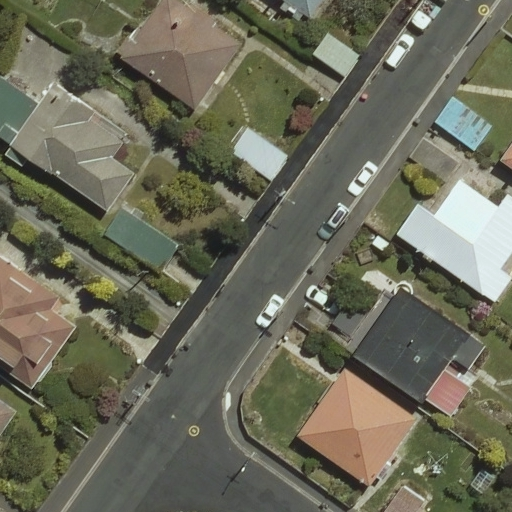DT: (270, 180, 298, 214)
